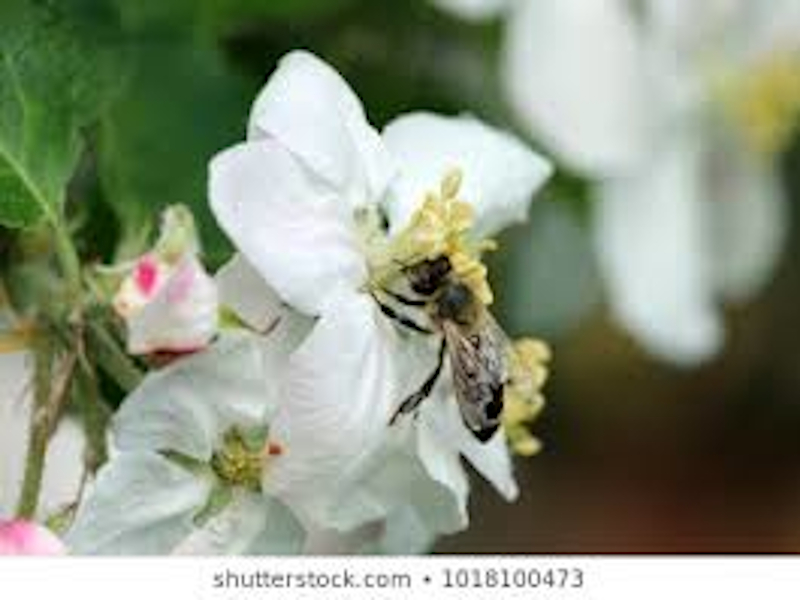abeja: (337, 233, 566, 458)
